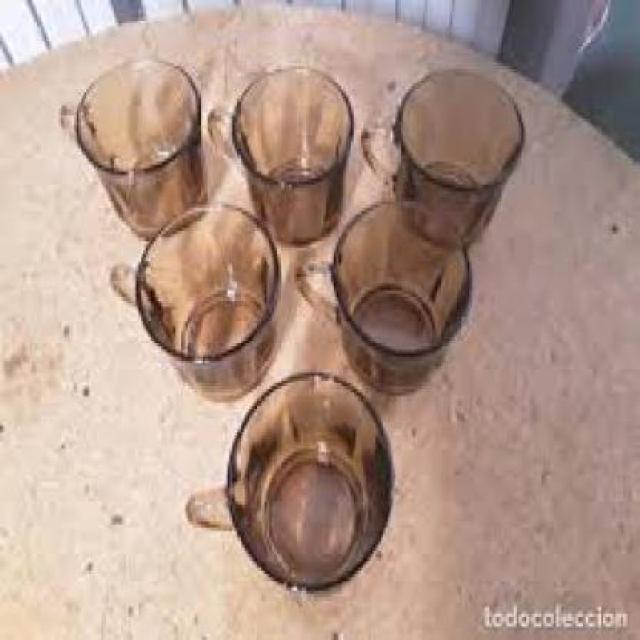kaca: (183, 366, 392, 594), (294, 195, 469, 392), (109, 198, 277, 396), (358, 66, 522, 245), (57, 54, 209, 238), (204, 63, 354, 245)
